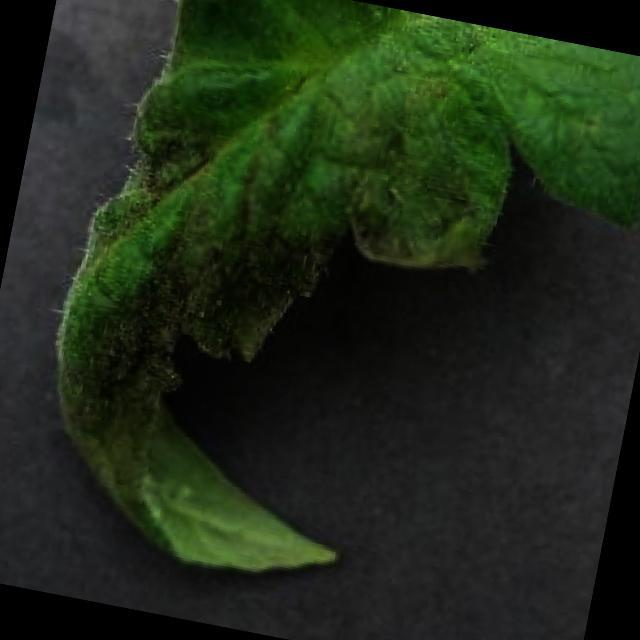Tomato late blight leaf: (21, 0, 640, 636)
